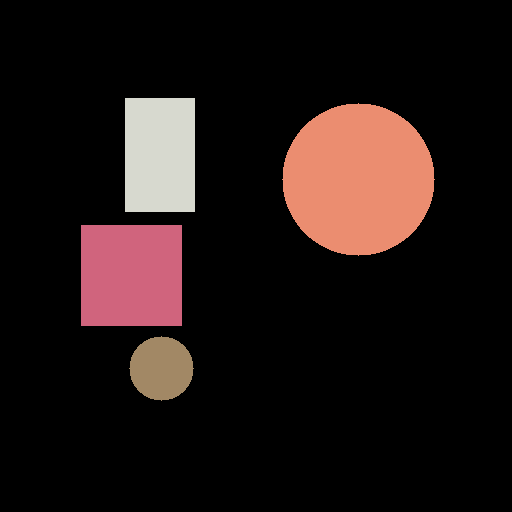circle: (282, 103, 434, 255), (129, 336, 193, 400)
rectangle: (125, 98, 194, 211)
square: (81, 225, 181, 325)
